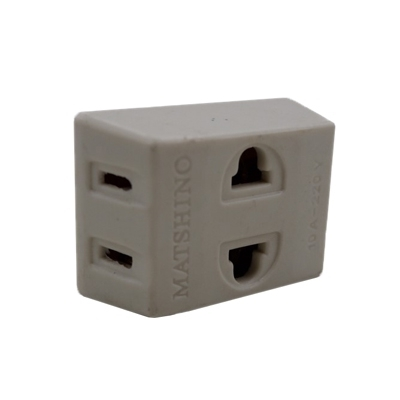Three_eye_plug: (69, 91, 340, 321)
